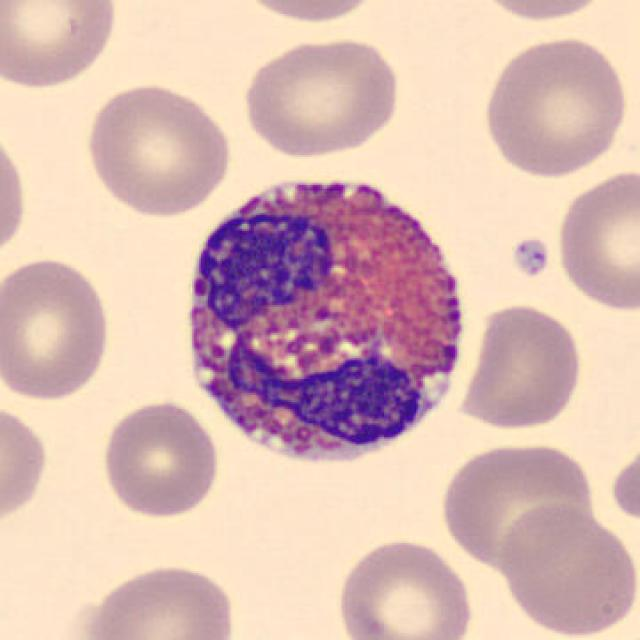Eosinophil: (167, 152, 482, 483)
Platelets: (508, 234, 553, 280)
RBC: (477, 32, 631, 180), (80, 78, 235, 220), (438, 434, 598, 571), (238, 34, 406, 160), (494, 500, 638, 640), (455, 300, 587, 434), (0, 252, 116, 404), (96, 397, 222, 522), (332, 534, 478, 640), (78, 559, 242, 640), (553, 166, 640, 314), (0, 0, 121, 93), (0, 397, 52, 532), (0, 122, 32, 268), (227, 0, 391, 26), (466, 0, 618, 25), (608, 439, 640, 532)
